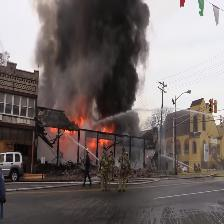smoke: (48, 2, 133, 111)
